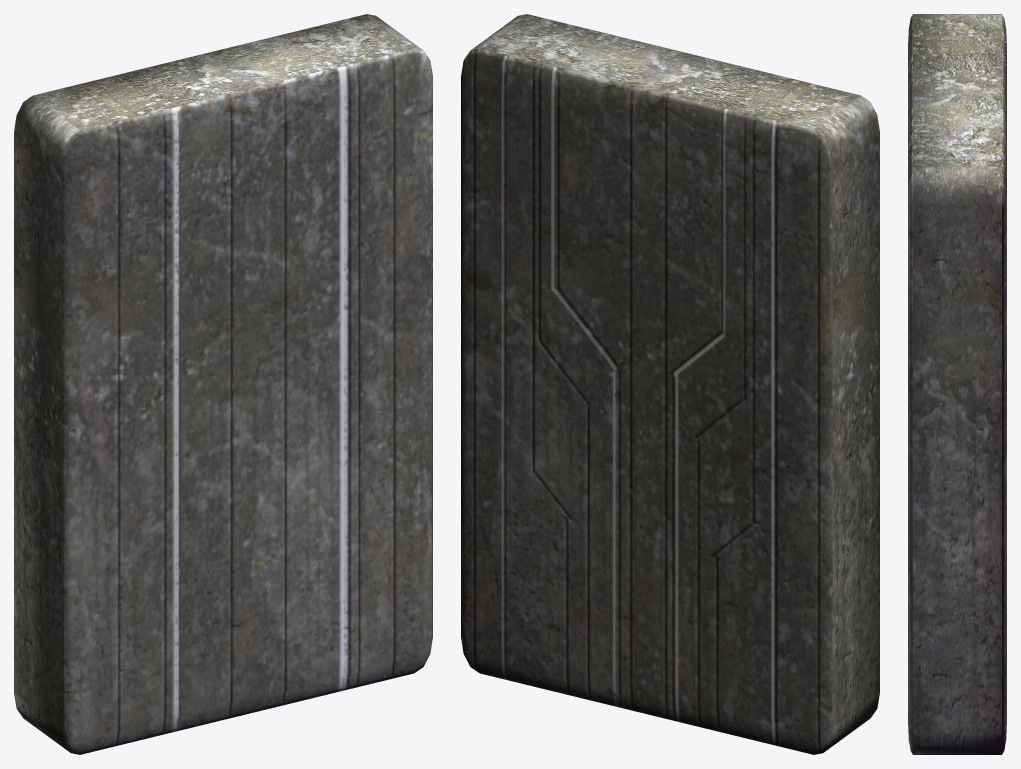
Rendered from Deco g.fbx.
3 renders of one model, left to right at view 1: azimuth 30°, elevation 25°; view 2: azimuth 150°, elevation 25°; view 3: azimuth 270°, elevation 25°, orthographic. The views are drawn at different scales.
Parts seen in each view (by area): view 1: Cube.018; view 2: Cube.018; view 3: Cube.018.
Part boxes in pixels (box(x1,y1,x2,y2)): Cube.018: box(14, 14, 432, 754); Cube.018: box(461, 14, 879, 754); Cube.018: box(908, 14, 1006, 754).
Bounding box in the file's own units: 680 × 1093 × 167.
